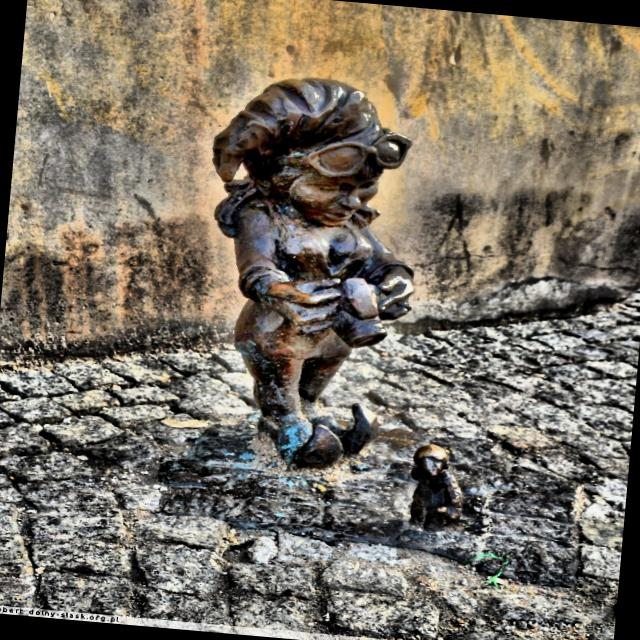Troszka i Adoratorek: (159, 78, 581, 588)
